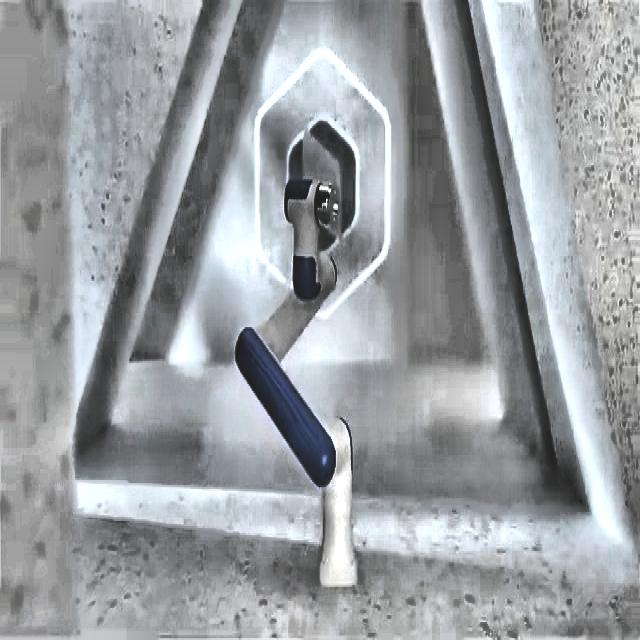robot: (234, 46, 393, 587)
